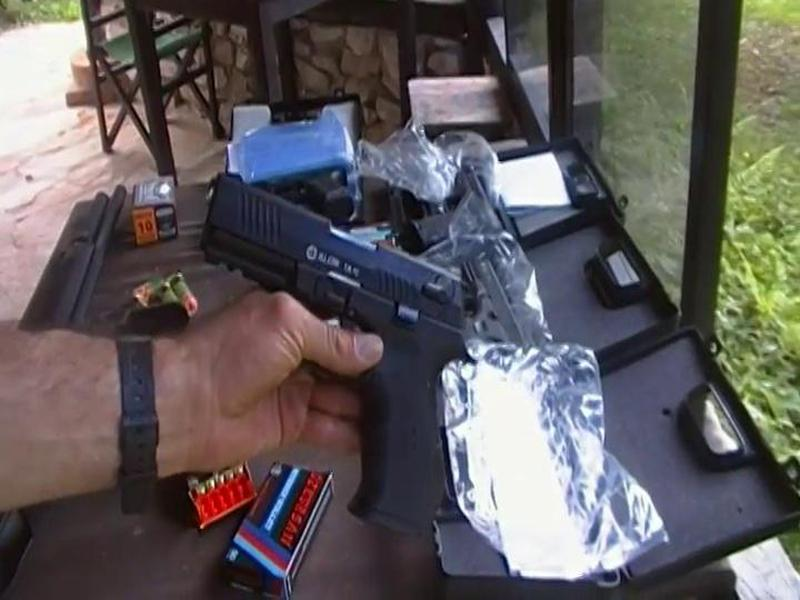Pistola: (182, 167, 494, 537)
